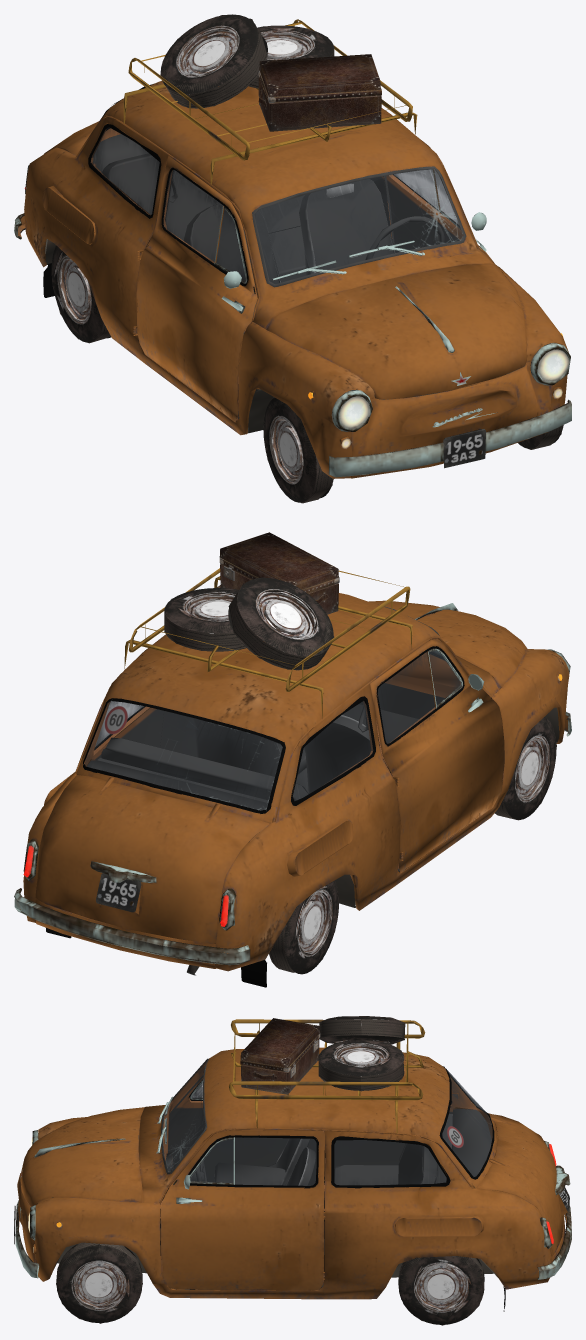
File: classic.glb
3 renders of one model, top to bottom at view 1: azimuth 30°, elevation 25°; view 2: azimuth 150°, elevation 25°; view 3: azimuth 270°, elevation 25°, orthographic. The views are drawn at different scales.
Visible parts, largest first — view 1: classic; view 2: classic; view 3: classic.
Part boxes in pixels (box(x1,y1,x2,y2)): classic: box(14, 14, 571, 503); classic: box(14, 532, 571, 987); classic: box(14, 1016, 571, 1325).
Bounding box in the file's own units: 1.77 × 2 × 3.9.
9 materials, 7 textured.
